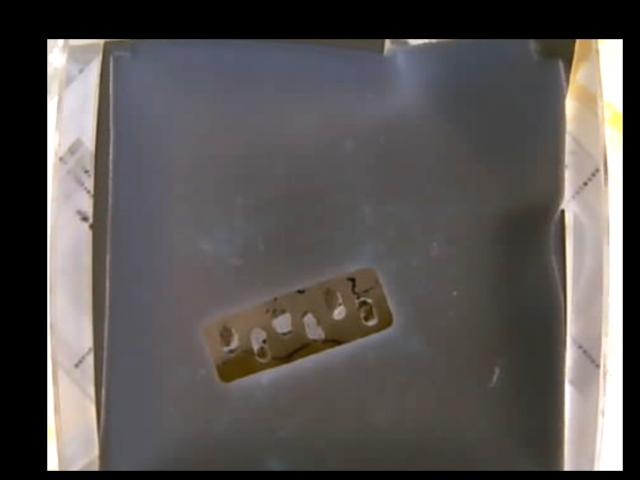Medicine: (203, 267, 393, 384)
